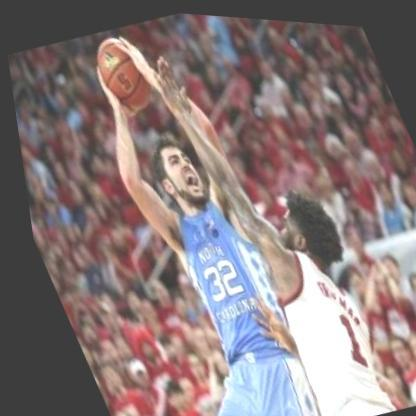basketball: (76, 21, 161, 113)
